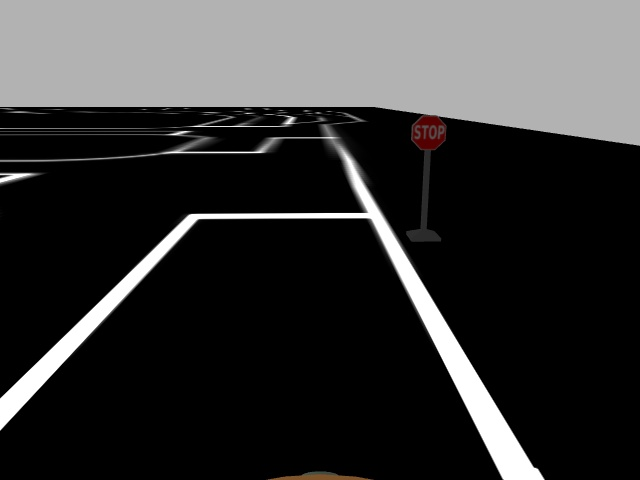stop: (408, 113, 449, 153)
